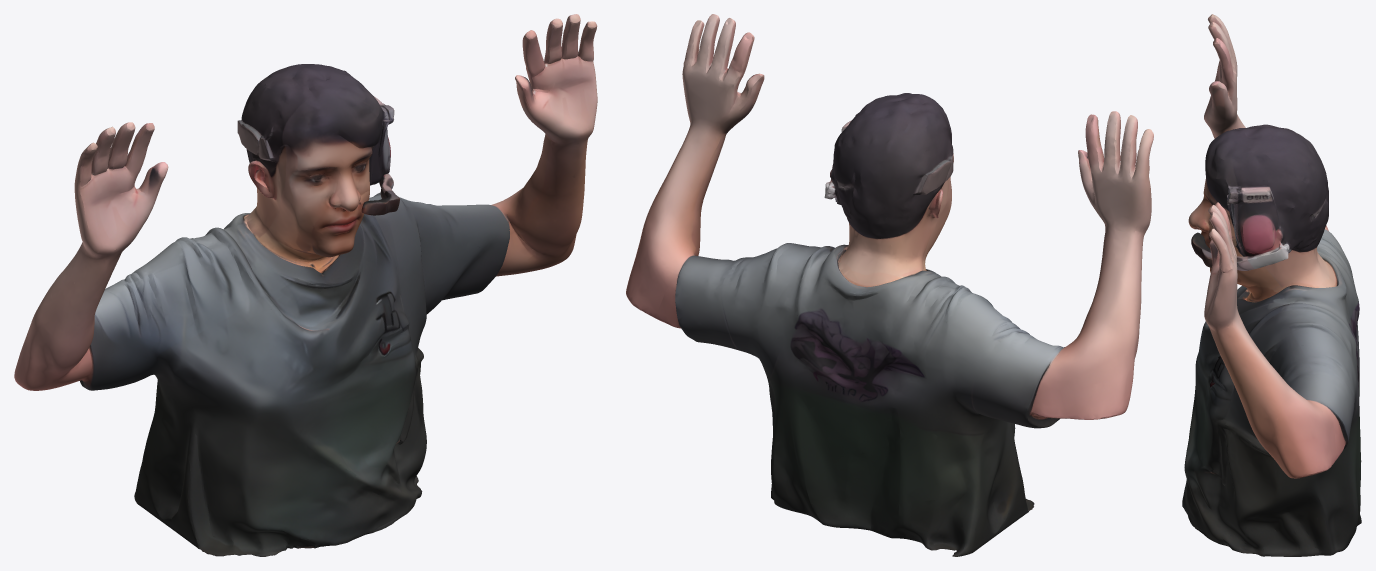
The model's file is base_basic_pbr.fbx.
3 renders of one model, left to right at view 1: azimuth 30°, elevation 25°; view 2: azimuth 150°, elevation 25°; view 3: azimuth 270°, elevation 25°, orthographic. The views are drawn at different scales.
Visible parts, largest first — view 1: model; view 2: model; view 3: model.
Boxes of the visible parts, x1,y1,x2,y2 form: model: (14,14,597,556); model: (626,14,1153,556); model: (1182,14,1361,556).
Bounding box in the file's own units: 185 × 147 × 59.9.
Materials: 1 (1 with a texture image).
